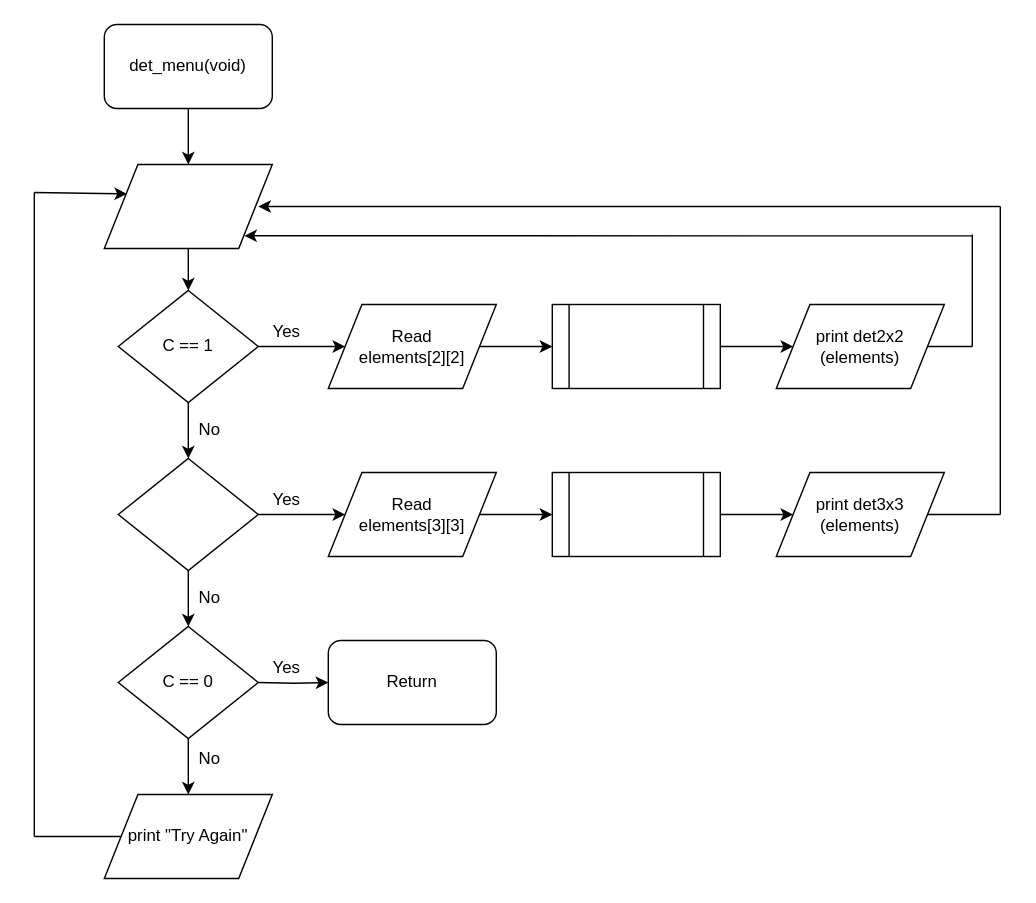
Some shapes in this 1036 by 903 pixel diagram are drawn without their labels. The box of each missing label's shape, as (x1, y1, x2, y2) in pixels:
C == 2: (117, 457, 258, 570)
det2x2(elements): (551, 303, 720, 388)
det3x3(elements): (551, 471, 720, 556)
Read c: (103, 163, 272, 248)
